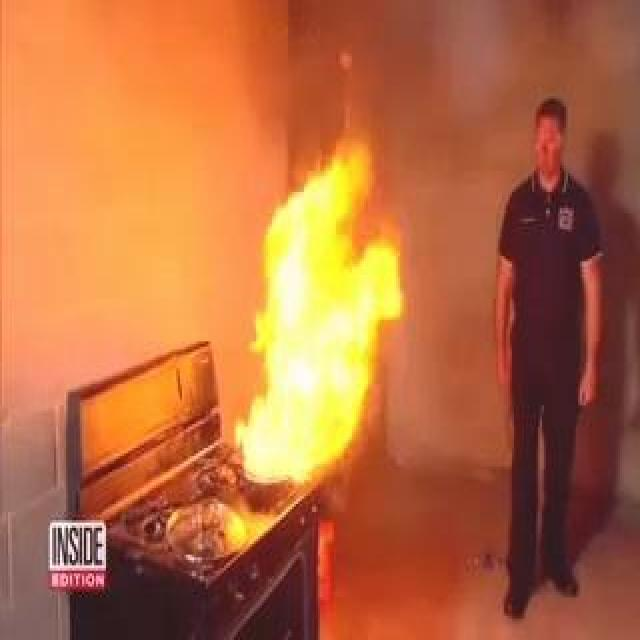Fire: (232, 56, 444, 491)
